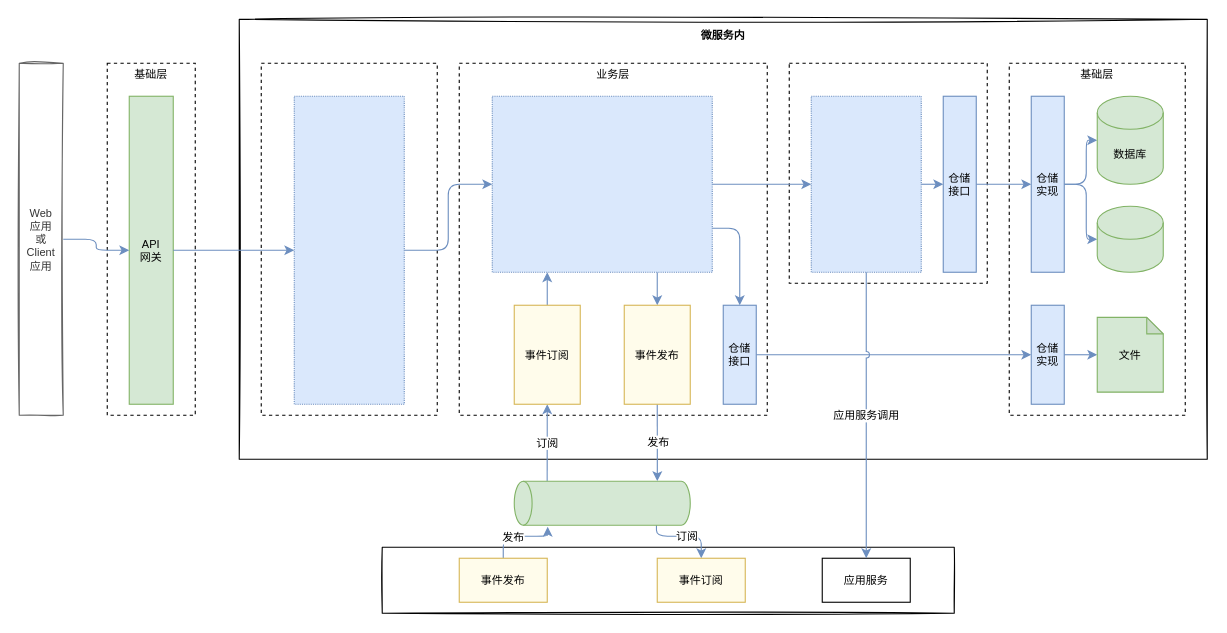
Some shapes in this 1227 by 633 pixel diagram are drawn without their labels. The box of each missing label's shape, as (x1, y1, x2, y2) in pixels:
Controllers: (293, 95, 404, 404)
Manages: (810, 95, 921, 272)
Services: (491, 95, 712, 272)
微服务外: (381, 546, 954, 613)
接口层: (260, 62, 437, 415)
消息队列: (513, 480, 690, 525)
缓存: (1096, 205, 1163, 272)
通用层: (788, 62, 987, 283)
